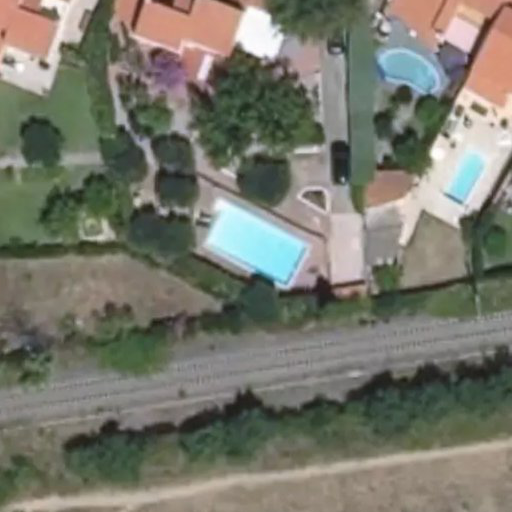pool: (198, 240, 313, 243)
